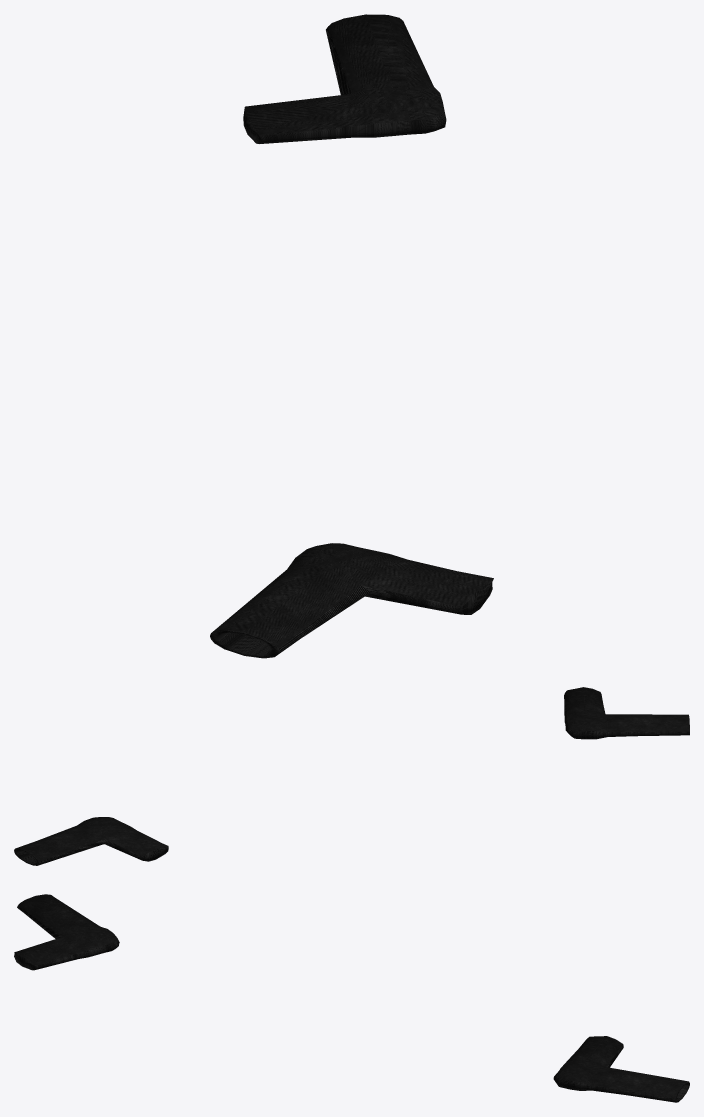
File: CalcetinesPiso.fbx
3 renders of one model, top to bottom at view 1: azimuth 30°, elevation 25°; view 2: azimuth 150°, elevation 25°; view 3: azimuth 270°, elevation 25°, orthographic. The views are drawn at different scales.
Parts seen in each view (by area): view 1: Calcetin.002, Calcetin.001; view 2: Calcetin.001, Calcetin.002; view 3: Calcetin.001, Calcetin.002.
Part boxes in pixels (bbox=[...]): Calcetin.002: bbox=[210, 543, 493, 658]; Calcetin.001: bbox=[243, 14, 446, 143]; Calcetin.001: bbox=[14, 817, 168, 865]; Calcetin.002: bbox=[564, 687, 689, 739]; Calcetin.001: bbox=[553, 1036, 689, 1102]; Calcetin.002: bbox=[14, 894, 119, 970].
Bounding box in the file's own units: 232 × 7.97 × 327.
1 material, 1 textured.
